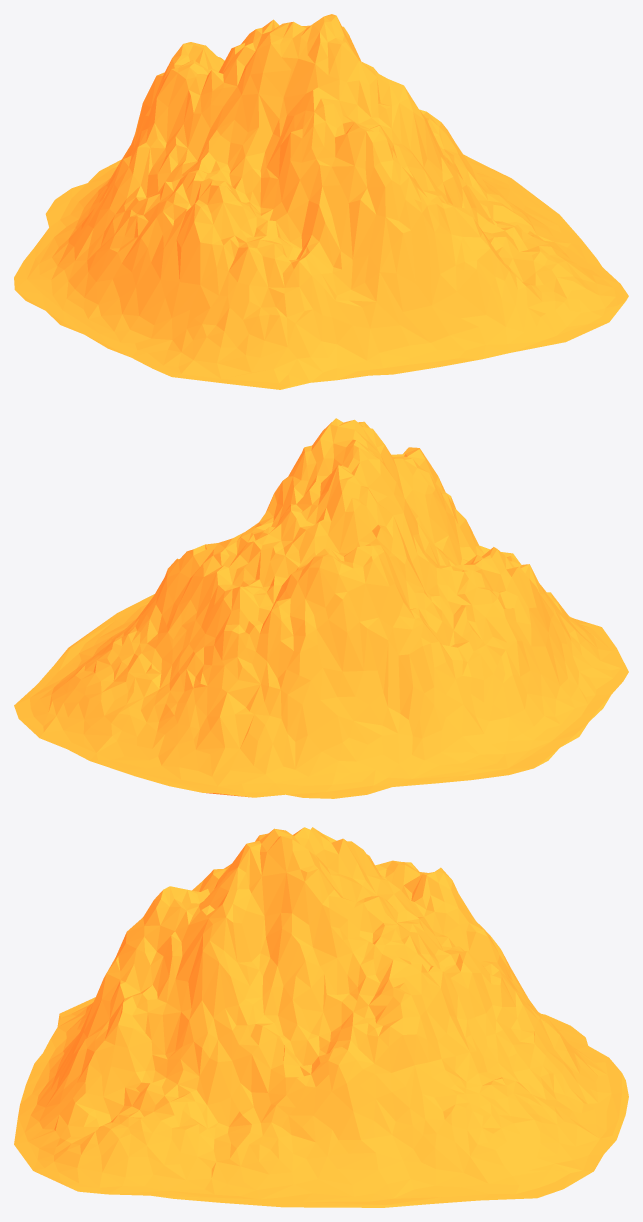
The model's file is mounting_1.gltf.
3 renders of one model, top to bottom at view 1: azimuth 30°, elevation 25°; view 2: azimuth 150°, elevation 25°; view 3: azimuth 270°, elevation 25°, orthographic. The views are drawn at different scales.
Parts seen in each view (by area): view 1: Mounting_1; view 2: Mounting_1; view 3: Mounting_1.
Part boxes in pixels (x1,y1,x2,y2): Mounting_1: (14, 14, 628, 389); Mounting_1: (14, 418, 628, 798); Mounting_1: (14, 827, 628, 1207).
Size of the model in its own units: 1572 by 780 by 1675.
